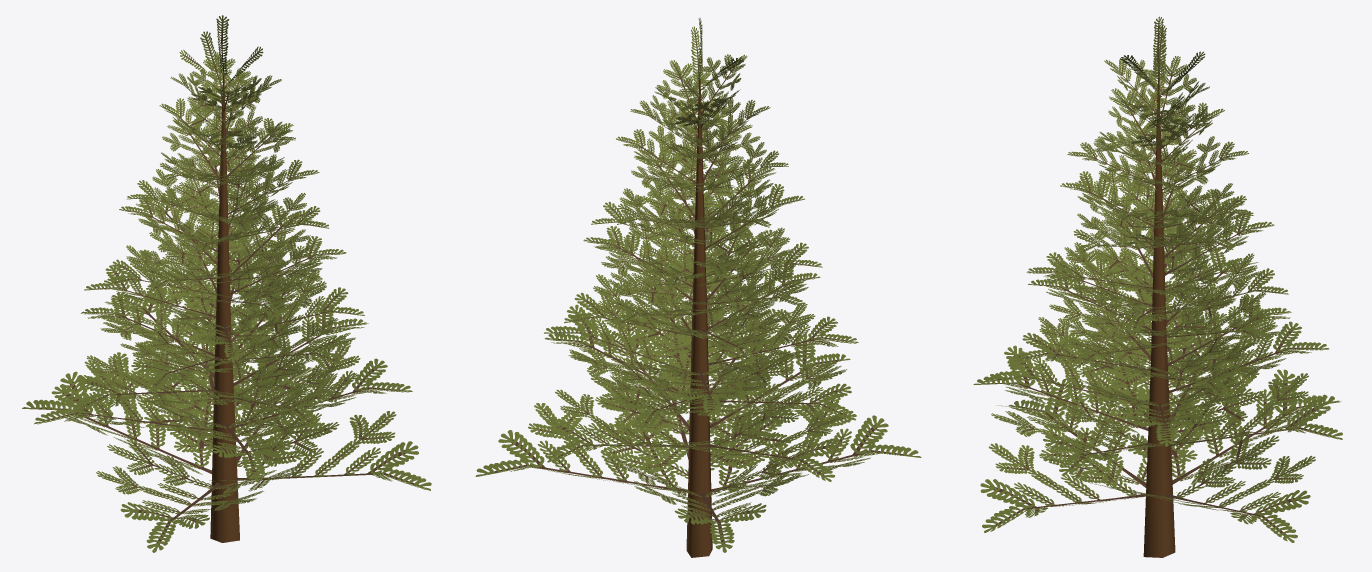
Rendered from Fir_Tree_1.fbx.
3 renders of one model, left to right at view 1: azimuth 30°, elevation 25°; view 2: azimuth 150°, elevation 25°; view 3: azimuth 270°, elevation 25°, orthographic. The views are drawn at different scales.
Parts seen in each view (by area): view 1: Fir_Tree_1; view 2: Fir_Tree_1; view 3: Fir_Tree_1.
Boxes of the visible parts, box(x1,y1,x2,y2) form: Fir_Tree_1: box(22, 15, 431, 552); Fir_Tree_1: box(475, 18, 921, 557); Fir_Tree_1: box(973, 16, 1342, 557).
Bounding box in the file's own units: 485 × 713 × 482.
Materials: 2 (2 with a texture image).
